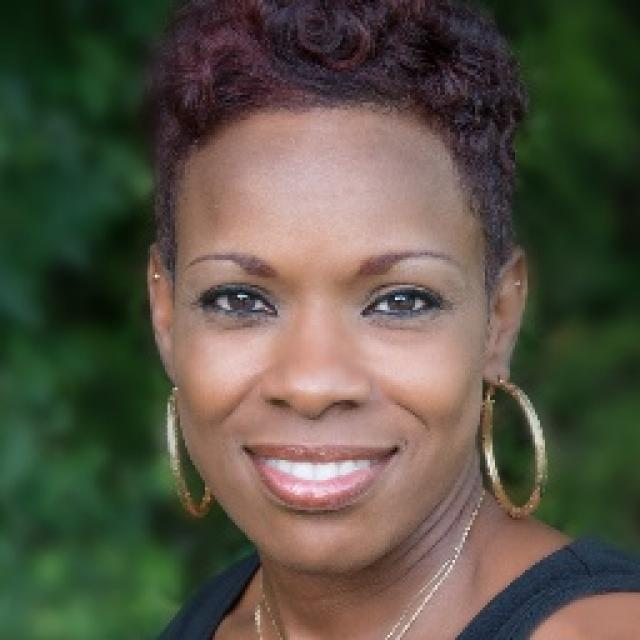earlobe: (156, 337, 182, 388), (484, 346, 512, 388)
eye: (365, 288, 443, 320), (198, 285, 275, 317)
nose: (252, 393, 371, 456)
wholeear: (485, 246, 528, 388), (147, 241, 181, 388)
